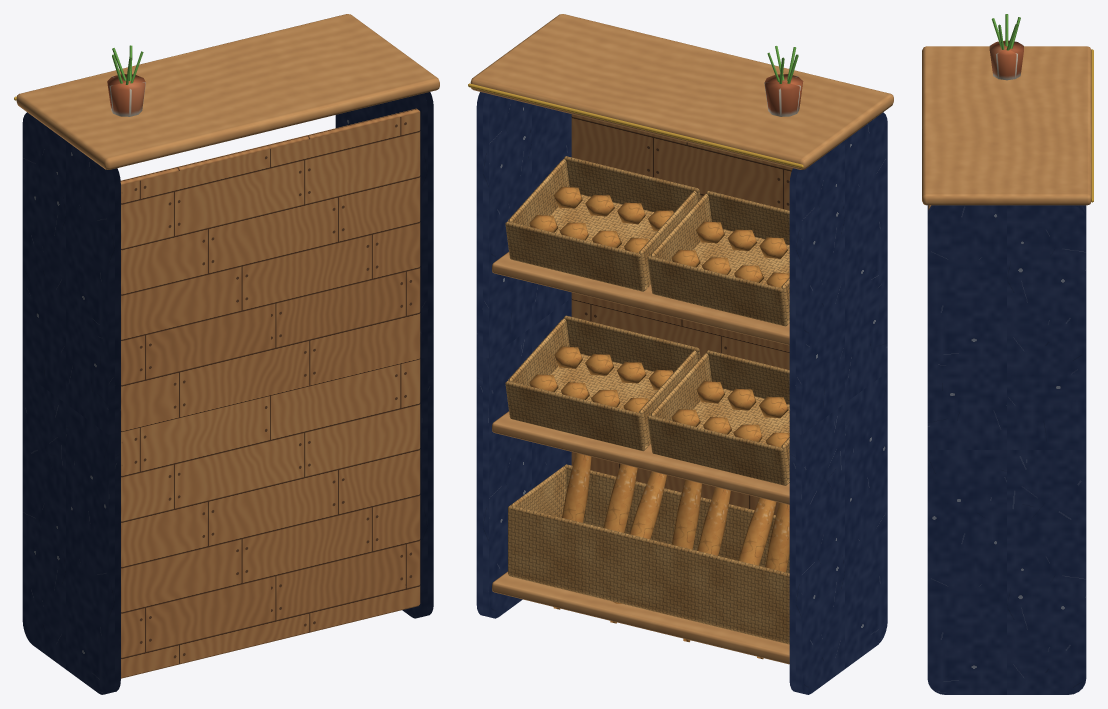
File: bakery_T1.fbx
The picture shows the model from 3 angles, left to right: view 1: azimuth 30°, elevation 25°; view 2: azimuth 150°, elevation 25°; view 3: azimuth 270°, elevation 25°; orthographic projection. The views are drawn at different scales.
Visible parts, largest first — view 1: Body; view 2: Body, Anim Fill 0, Anim Fill 3, Anim Fill 1, Anim Fill 2; view 3: Body.
Part boxes in pixels (x1,y1,x2,y2): Body: (14, 14, 439, 694); Body: (468, 14, 893, 694); Anim Fill 0: (529, 187, 673, 609); Anim Fill 3: (671, 221, 789, 659); Anim Fill 1: (610, 471, 702, 623); Anim Fill 2: (683, 487, 776, 642); Body: (922, 14, 1093, 694).
Size of the model in its own units: 0.99 by 1.7 by 0.476.
